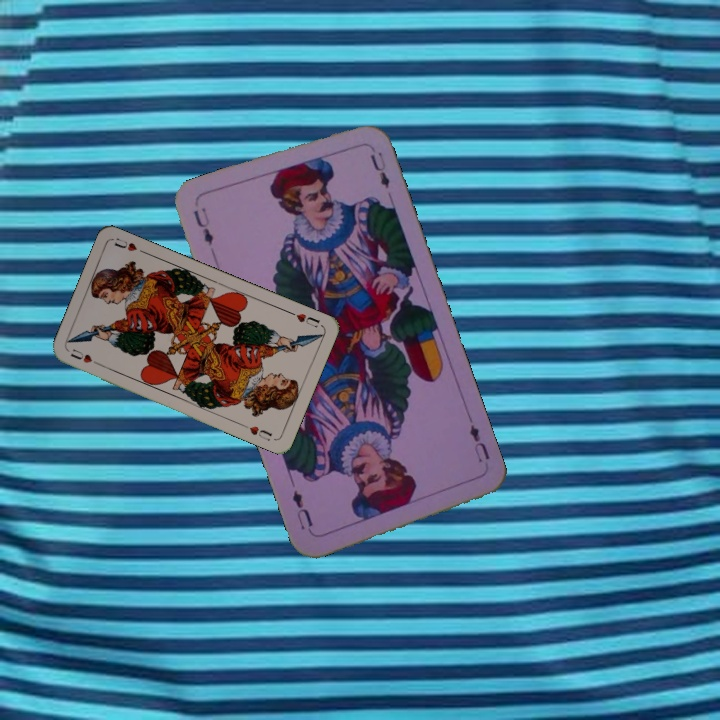EU: (465, 420, 492, 465), (189, 203, 216, 248)
HU: (66, 345, 104, 368), (285, 307, 322, 330)
